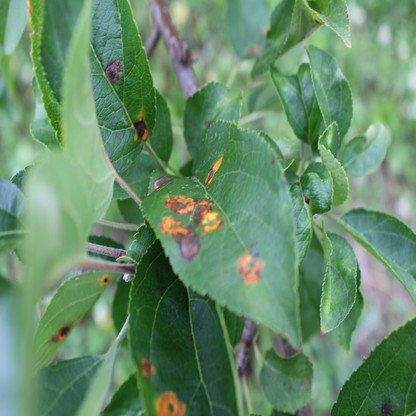rust: (160, 195, 222, 261), (154, 391, 185, 416), (238, 254, 264, 283), (204, 155, 223, 186), (133, 109, 147, 141), (49, 322, 70, 341), (141, 357, 155, 380), (106, 60, 119, 84), (154, 177, 172, 189), (309, 12, 321, 26), (97, 274, 110, 286), (248, 45, 260, 55), (27, 0, 32, 16)
